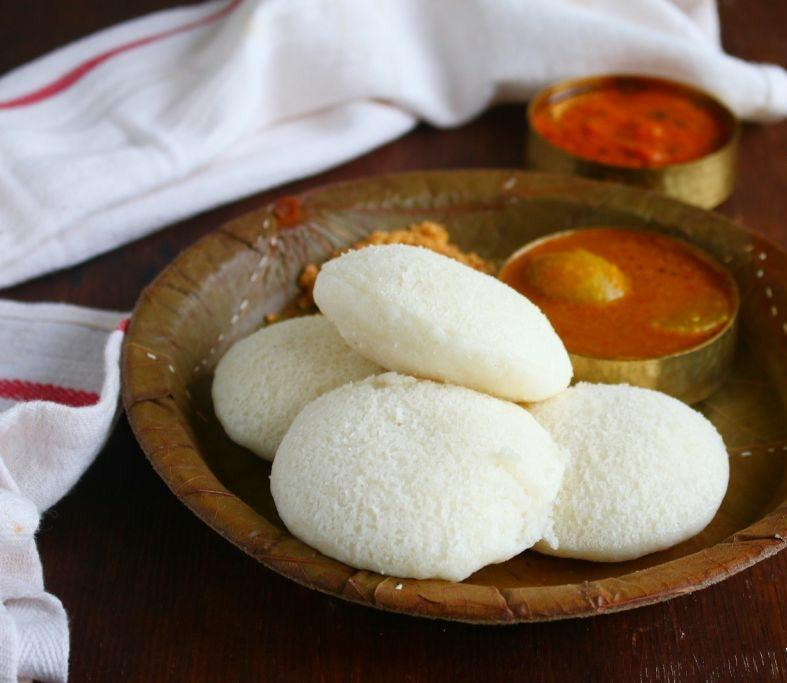Idli: (270, 374, 567, 579), (314, 246, 572, 402), (509, 381, 722, 551), (212, 314, 383, 457)
